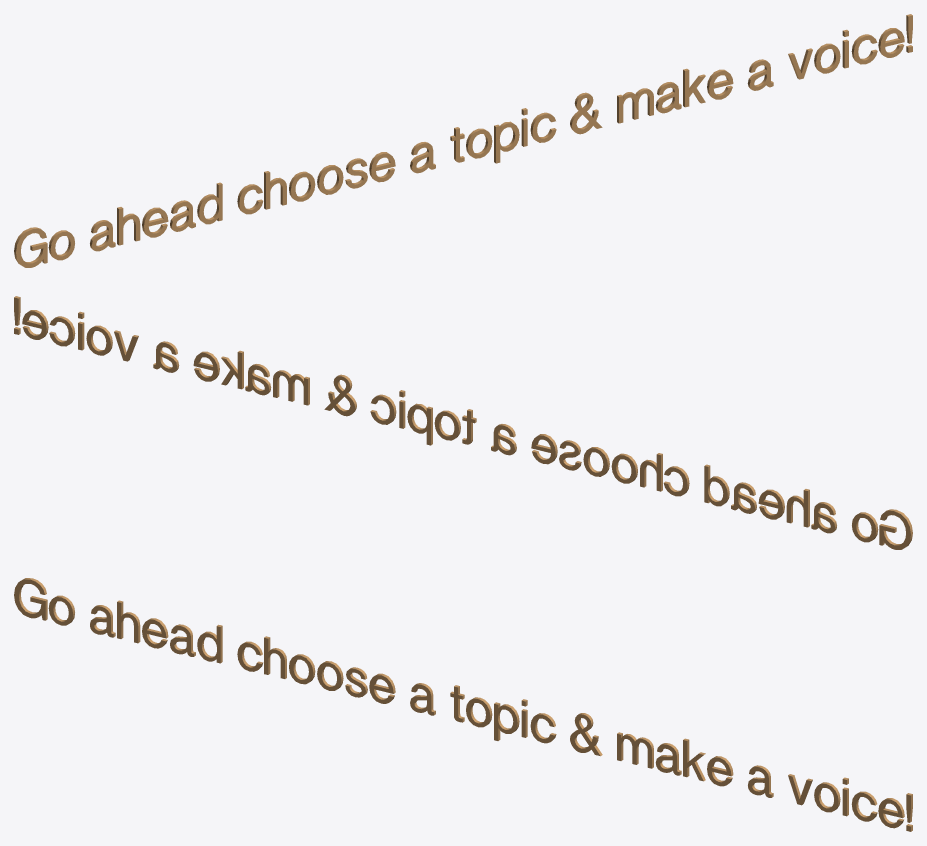
File: choose.fbx
3 renders of one model, top to bottom at view 1: azimuth 30°, elevation 25°; view 2: azimuth 150°, elevation 25°; view 3: azimuth 330°, elevation 25°, orthographic.
Visible parts, largest first — view 1: Text; view 2: Text; view 3: Text.
Part boxes in pixels (x1,y1,x2,y2): Text: [14, 14, 912, 267]; Text: [14, 296, 912, 549]; Text: [14, 578, 912, 831].
Size of the model in its own units: 26.11 by 1.32 by 0.1.
